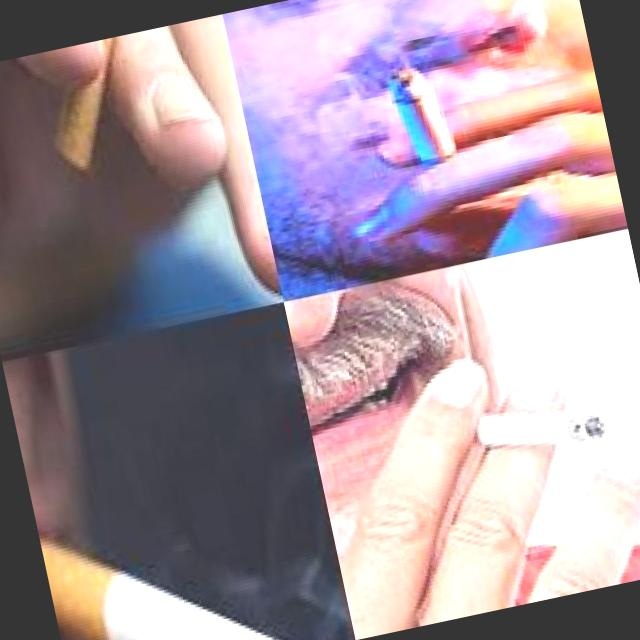cigarette: (39, 472, 354, 640), (32, 20, 218, 181), (433, 378, 608, 474), (393, 59, 458, 169)
